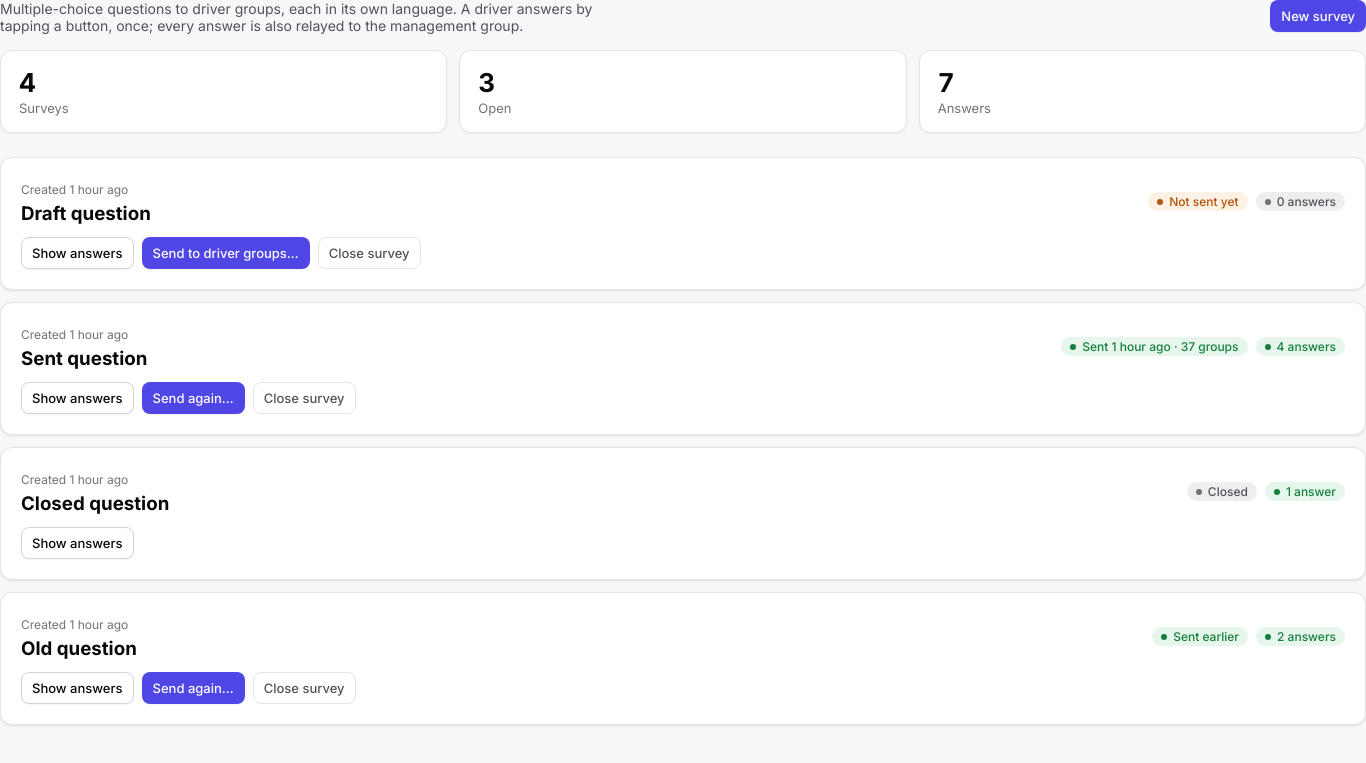
Scenario: Translate fills Russian and Uzbek; editing the English afterwards is flagged, never re-translated
Expected: the heading "Draft question" is shown, x1=21 y1=202 x2=151 y2=225
Click the button "New survey" at (1318, 16), box x1=1270 y1=0 x2=1365 y2=32
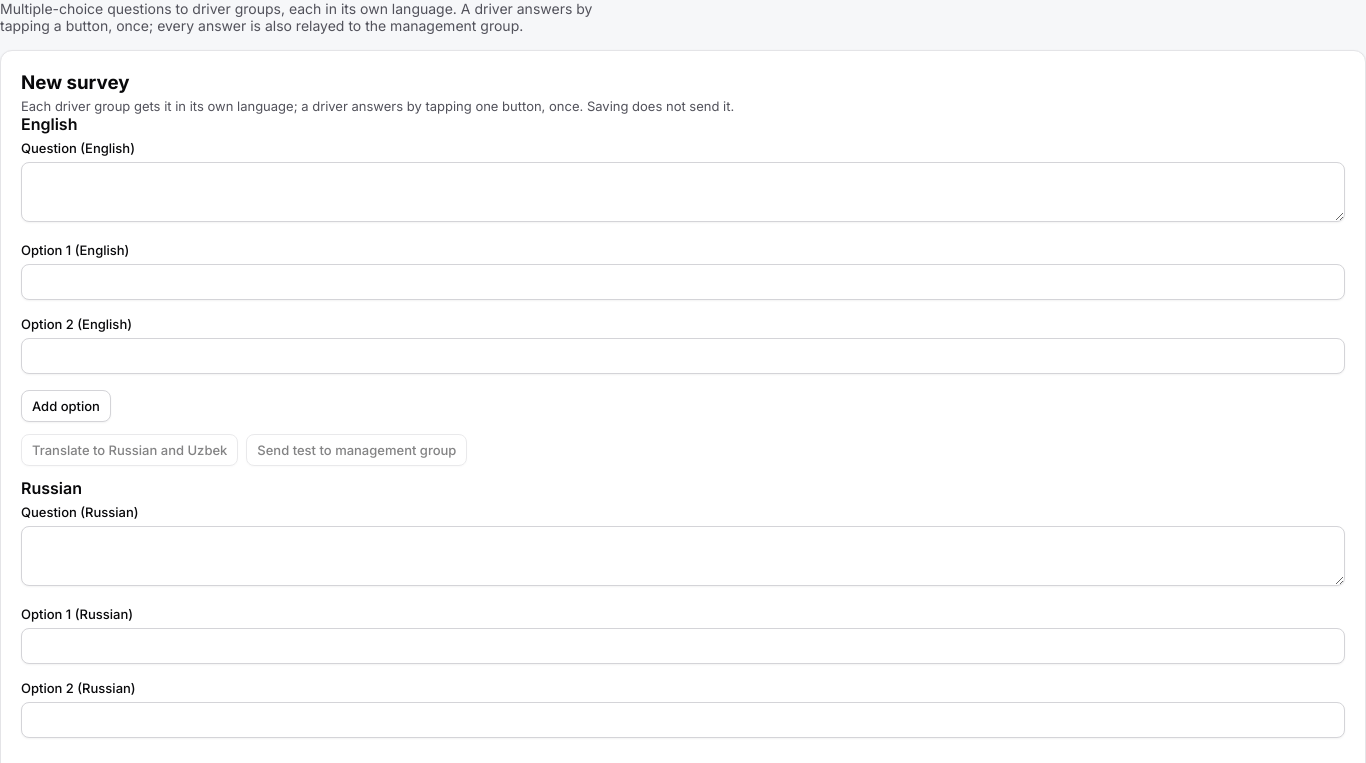
Type "How was your week?" into the text box labelled "Question (English)" at (683, 192), box x1=21 y1=162 x2=1345 y2=222
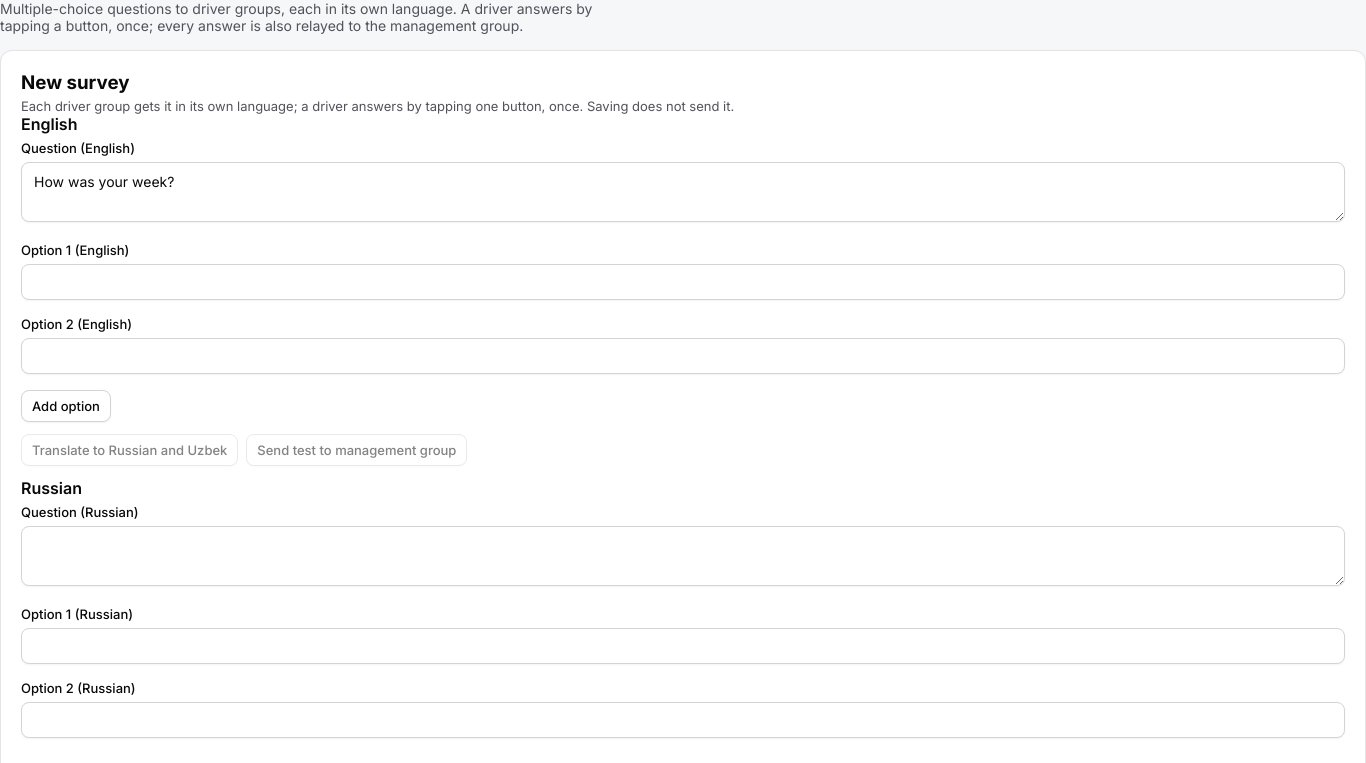
Type "Good" into the field labelled "Option 1 (English)" at (683, 282), box x1=21 y1=264 x2=1345 y2=300
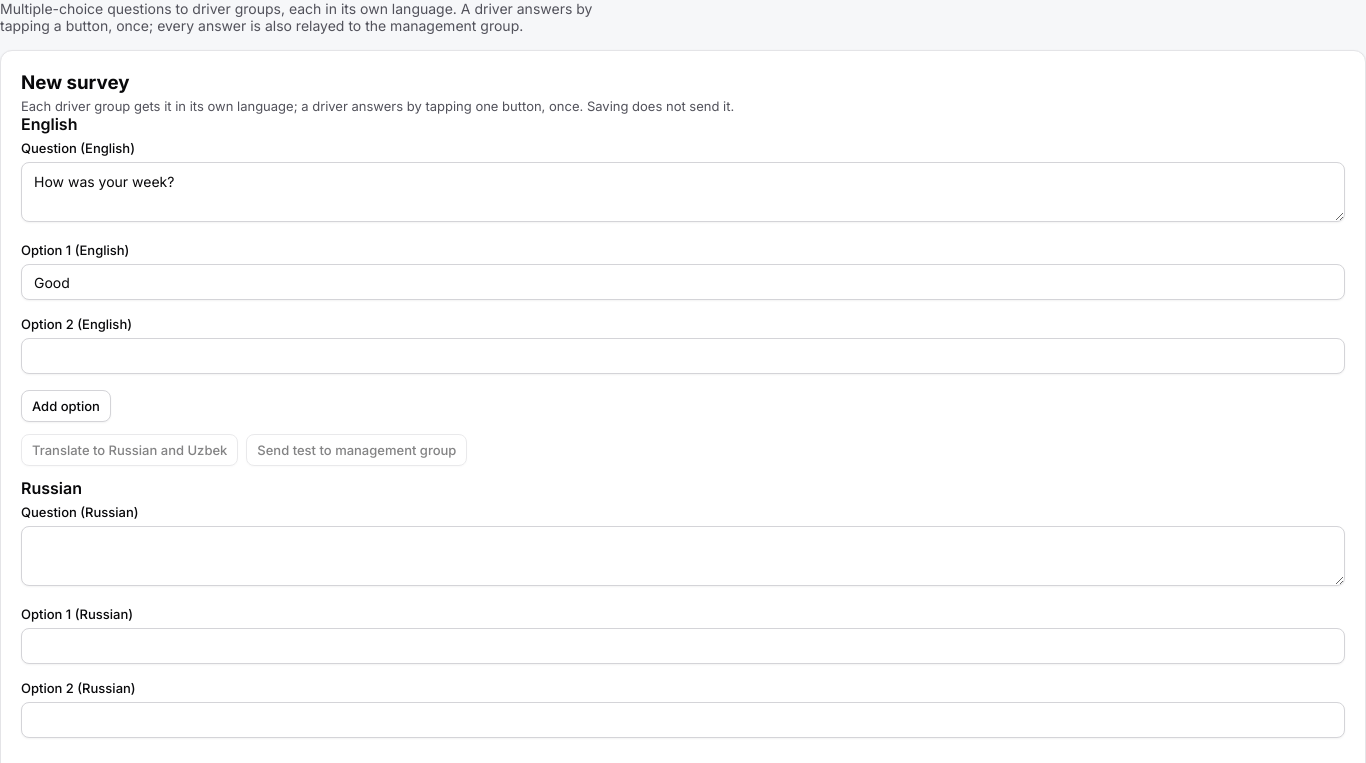
Type "Bad" into the field labelled "Option 2 (English)" at (683, 356), box x1=21 y1=338 x2=1345 y2=374
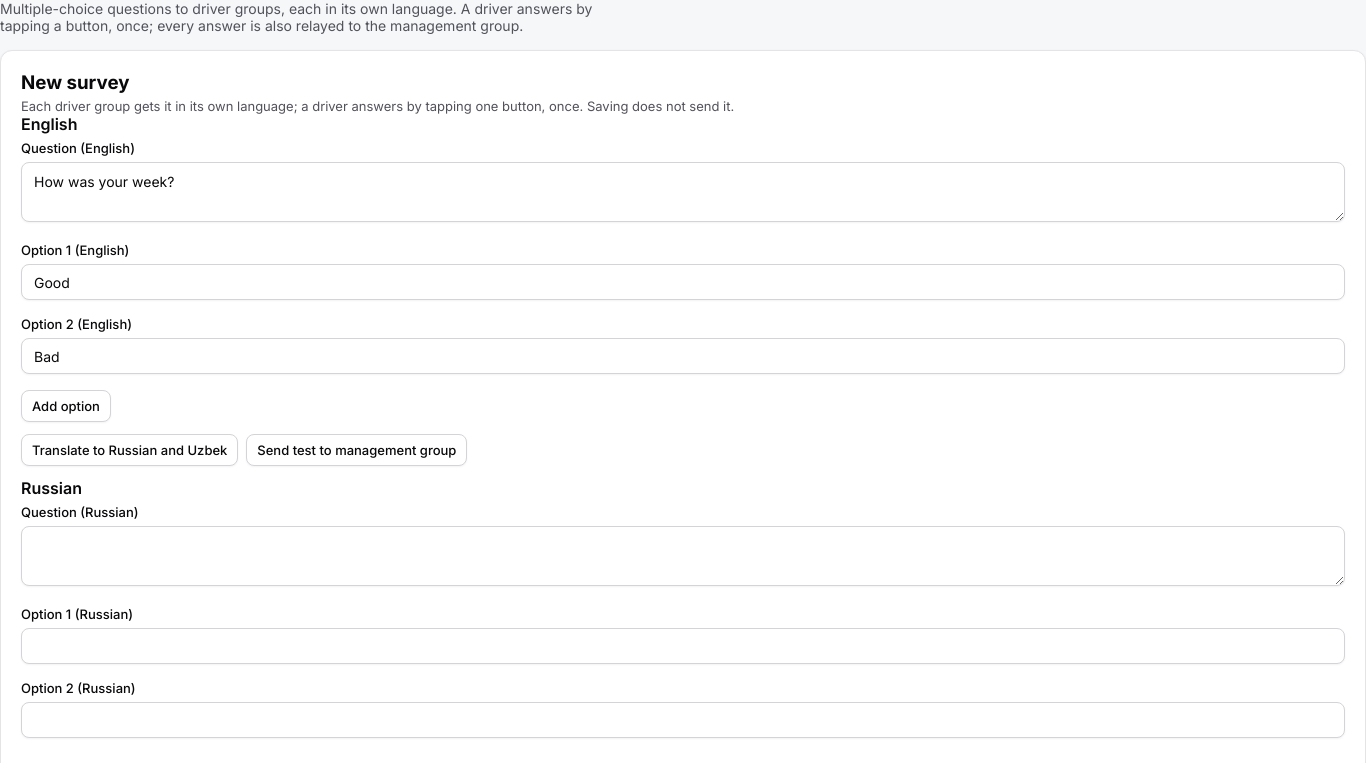
Click the button "Translate to Russian and Uzbek" at (130, 450), box x1=21 y1=434 x2=238 y2=466
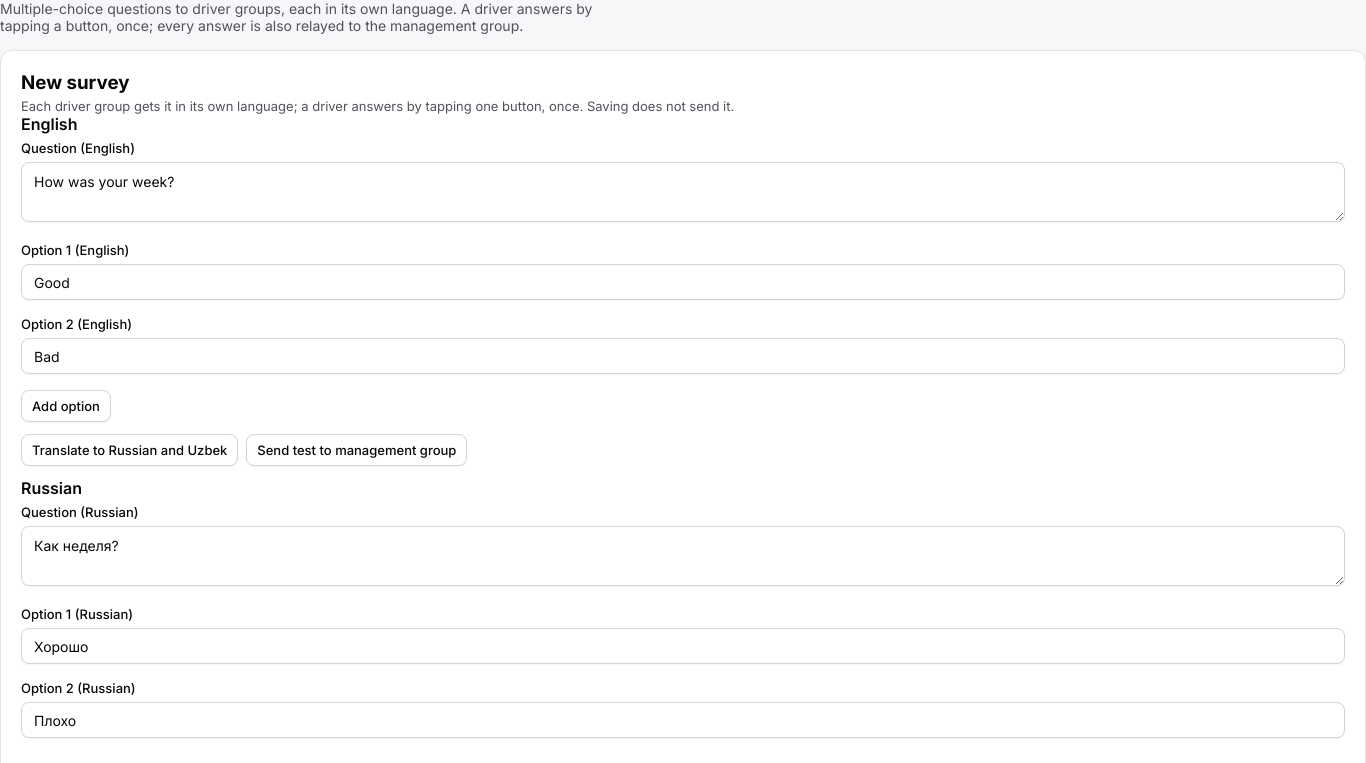
Expected: the text box labelled "Question (Russian)" holds "Как неделя?", x1=21 y1=526 x2=1345 y2=586
Replace the text in the field labelled "Option 2 (English)" with "Terrible" at (683, 356), box x1=21 y1=338 x2=1345 y2=374
(page scrolled)
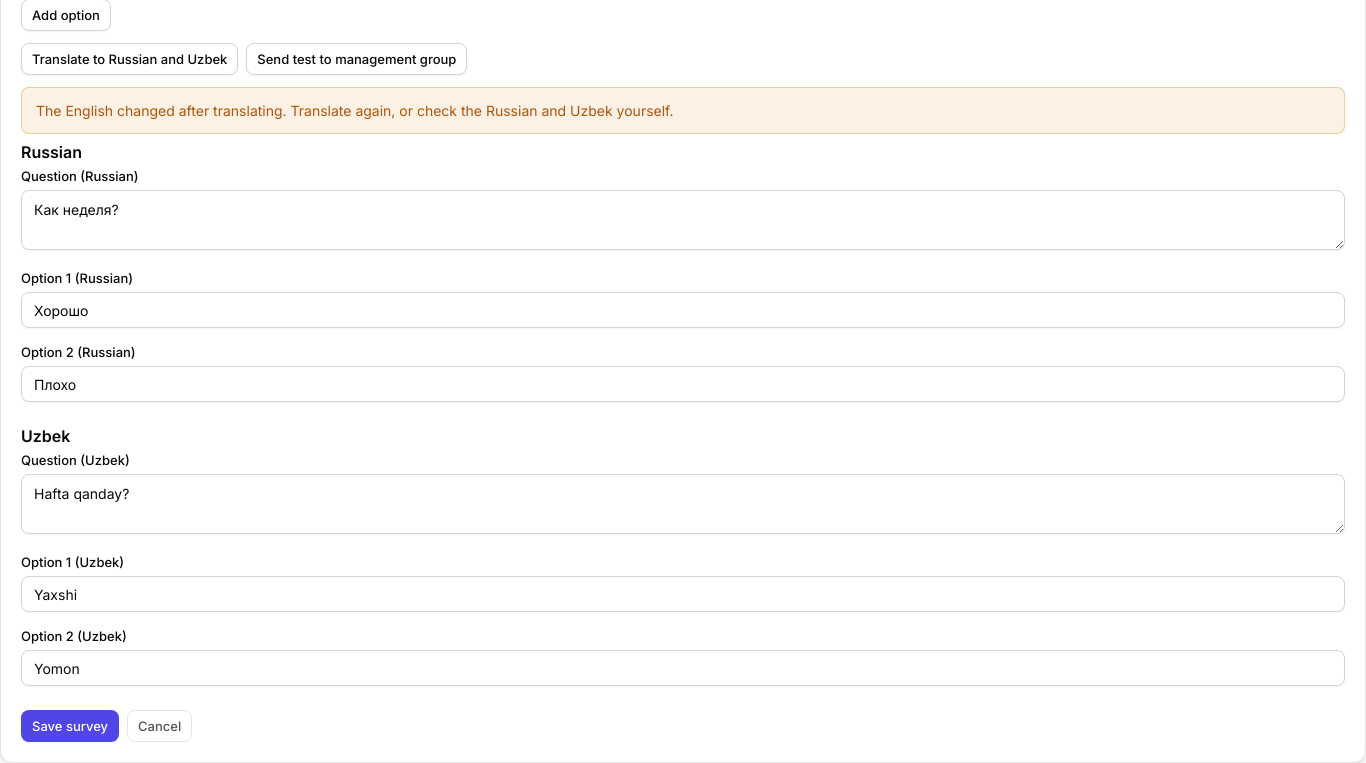
Expected: the field labelled "Option 2 (Russian)" holds "Плохо", x1=21 y1=366 x2=1345 y2=402
Expected: the text "The English changed after translating" is shown, x1=36 y1=102 x2=674 y2=119
